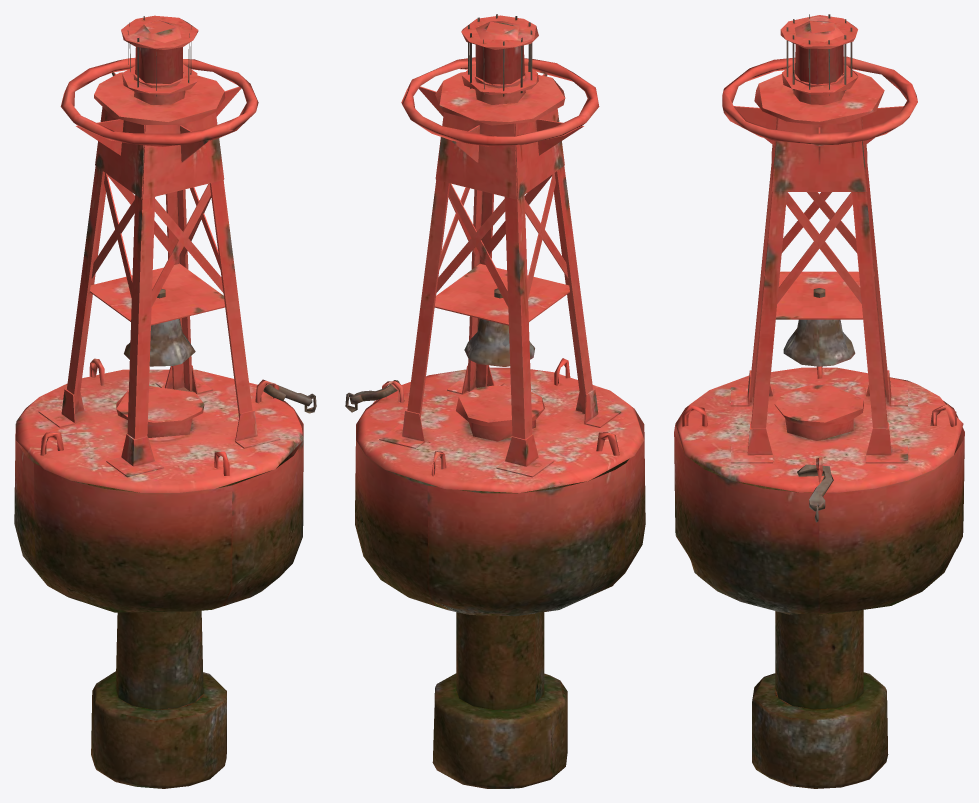
The model's file is phao.glb.
The picture shows the model from 3 angles, left to right: view 1: azimuth 30°, elevation 25°; view 2: azimuth 150°, elevation 25°; view 3: azimuth 270°, elevation 25°; orthographic projection.
Visible parts, largest first — view 1: ocean_buoy; view 2: ocean_buoy; view 3: ocean_buoy.
Part boxes in pixels (box(x1,y1,x2,y2)): ocean_buoy: box(14, 15, 316, 788); ocean_buoy: box(345, 14, 645, 788); ocean_buoy: box(674, 14, 964, 788).
Bounding box in the file's own units: 0.4002 × 1 × 0.3584.
Materials: 1 (1 with a texture image).
